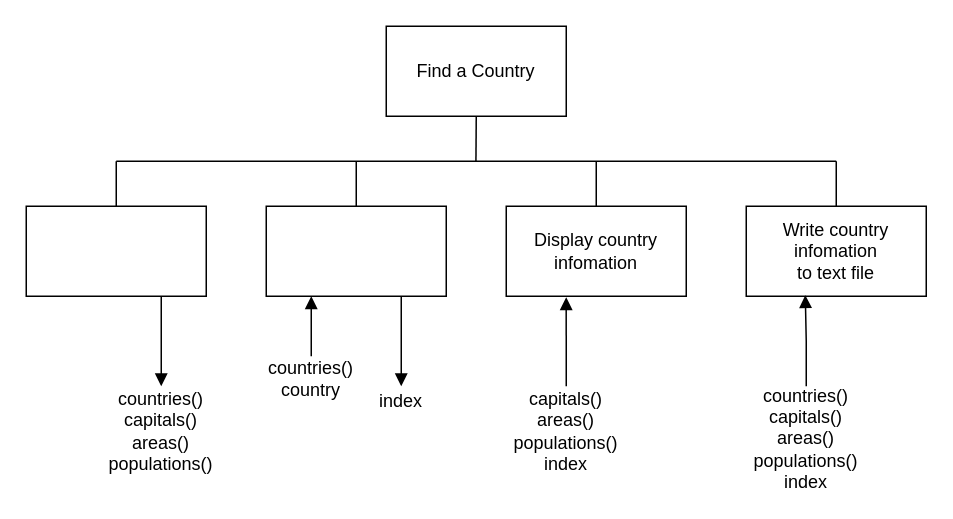
The diagram is 953 pixels wide and 519 high, and some of its shapes have lost their labels. Each missing label, with the centre of its shape:
"Find country" goes at point 355,250.
"Read data from csv file" goes at point 115,250.
